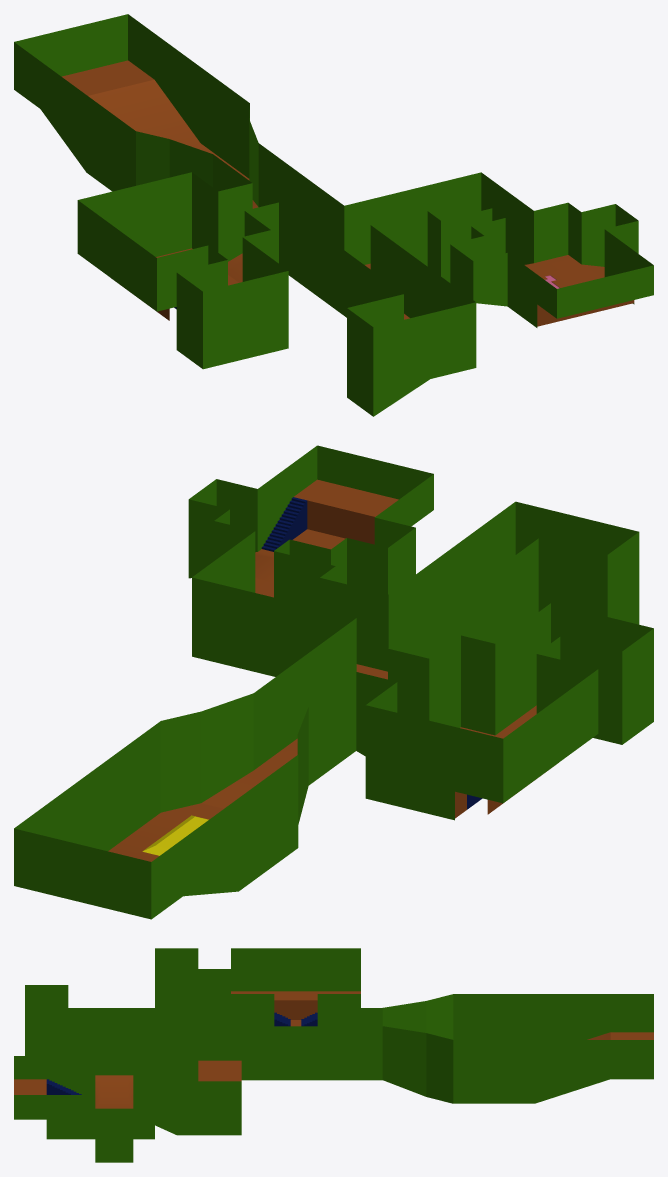
Rendered from Fase_1(Teste_2).fbx.
3 renders of one model, top to bottom at view 1: azimuth 30°, elevation 25°; view 2: azimuth 150°, elevation 25°; view 3: azimuth 270°, elevation 25°, orthographic. The views are drawn at different scales.
Parts seen in each view (by area): view 1: pCube11; view 2: pCube11; view 3: pCube11.
Part boxes in pixels (left/top/right/bottom): pCube11: left=14, top=14, right=653, bottom=416; pCube11: left=14, top=445, right=653, bottom=919; pCube11: left=14, top=948, right=653, bottom=1162.
Size of the model in its own units: 140 by 30 by 236.
